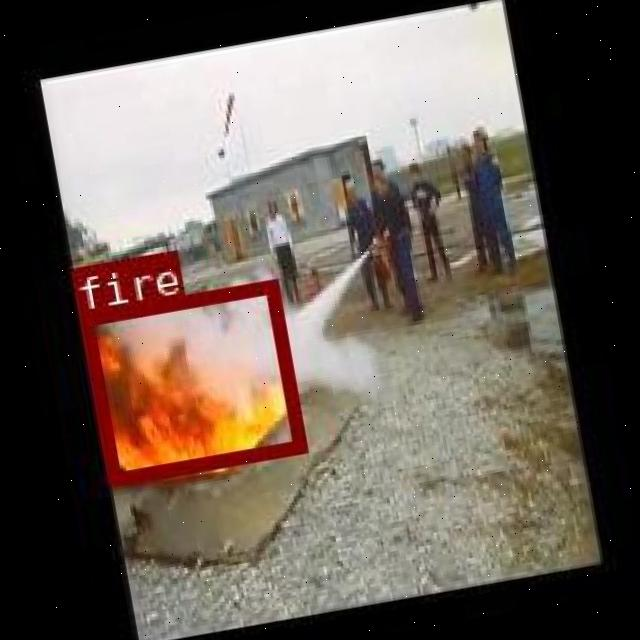fire: (76, 278, 305, 486)
